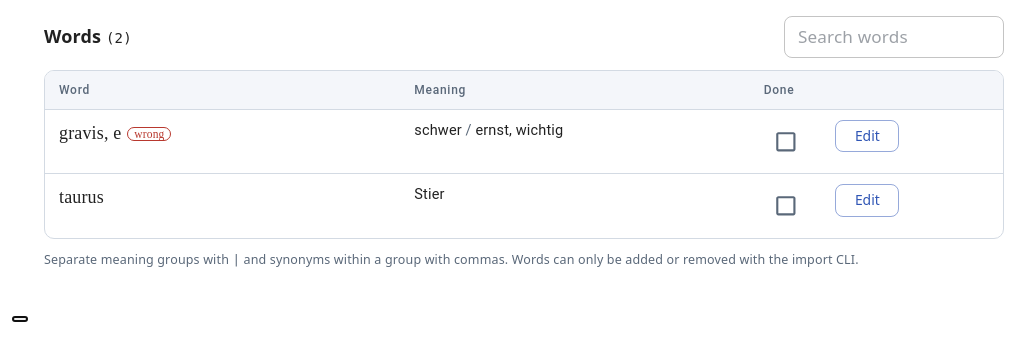
Test: editing › does not send meanings that cannot be stored: a | b | c | d | e
The width and height of the screenshot is (1021, 356).
Click the button with aria-label "Edit gravis, e" at coordinates (867, 136), box [835,120,899,152]
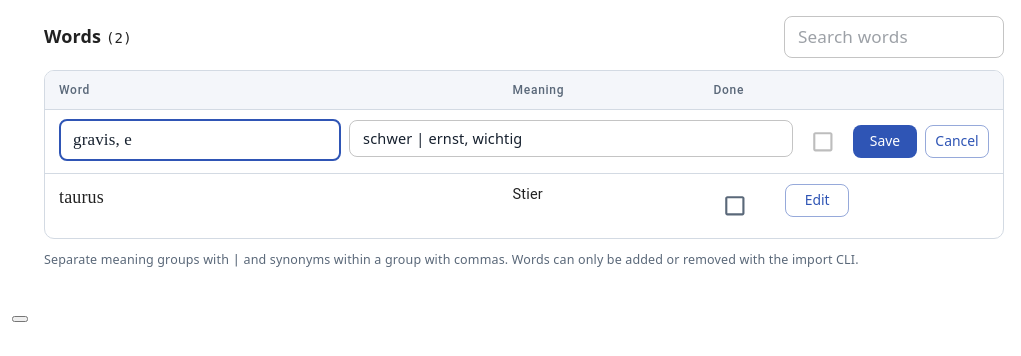
Replace the text in the field named "Meaning" with "a | b | c | d | e" at coordinates (571, 138), box [349,120,793,157]
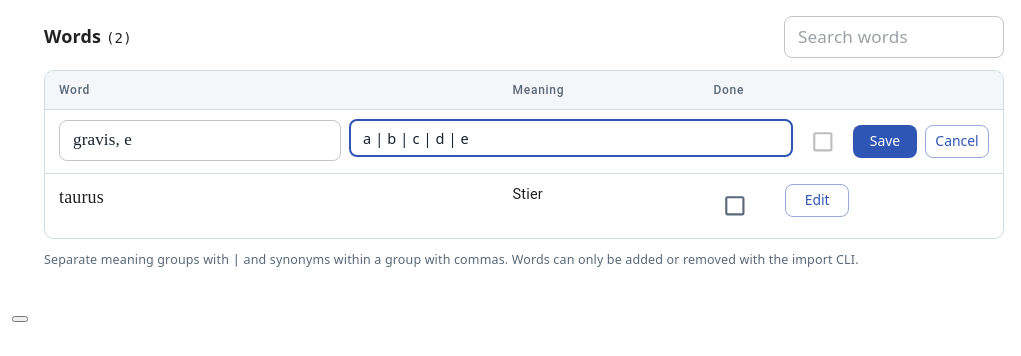
Click the button "Save" at coordinates (885, 142), box [853,125,917,158]
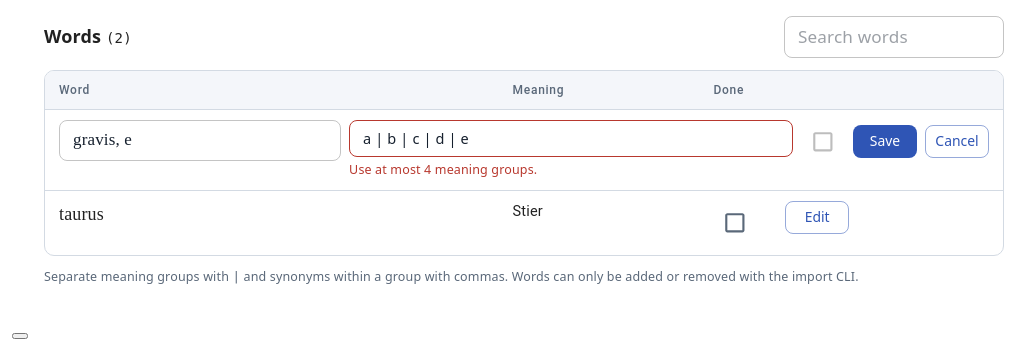
Now the message shows "at most 4 meaning groups", box [349,162,537,178]
